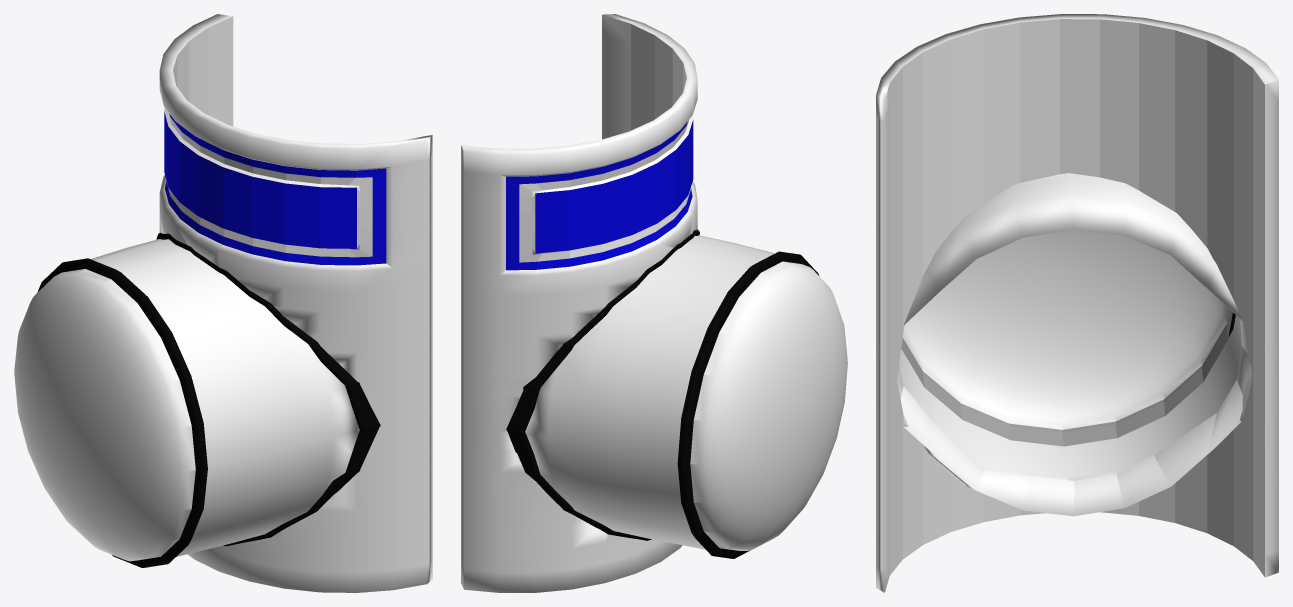
File: LampDoor.fbx
3 views of the same model, side by side, from view 1: azimuth 30°, elevation 25°; view 2: azimuth 150°, elevation 25°; view 3: azimuth 270°, elevation 25° (orthographic). The views are drawn at different scales.
Visible parts, largest first — view 1: pCylinder8; view 2: pCylinder8; view 3: pCylinder8.
Part boxes in pixels (x1,y1,x2,y2): pCylinder8: [14, 14, 432, 592]; pCylinder8: [461, 14, 847, 592]; pCylinder8: [876, 14, 1278, 592].
Bounding box in the file's own units: 1.91 × 2.8 × 2.07.
